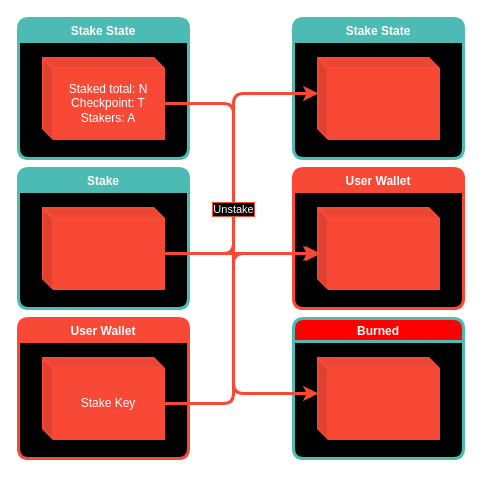
This 482x477 diagram has some shape labels left out. Here are the shapes that lost their labels. From the top down, the centre of each, then its label:
At pixel 378 98: "Staked total: N-X Checkpoint: T Stakers: A-1".
At pixel 103 248: "ErgoPad: X Time: T".
At pixel 378 248: "ErgoPad: X - Penalty".
At pixel 378 398: "ErgoPad: Penalty".
